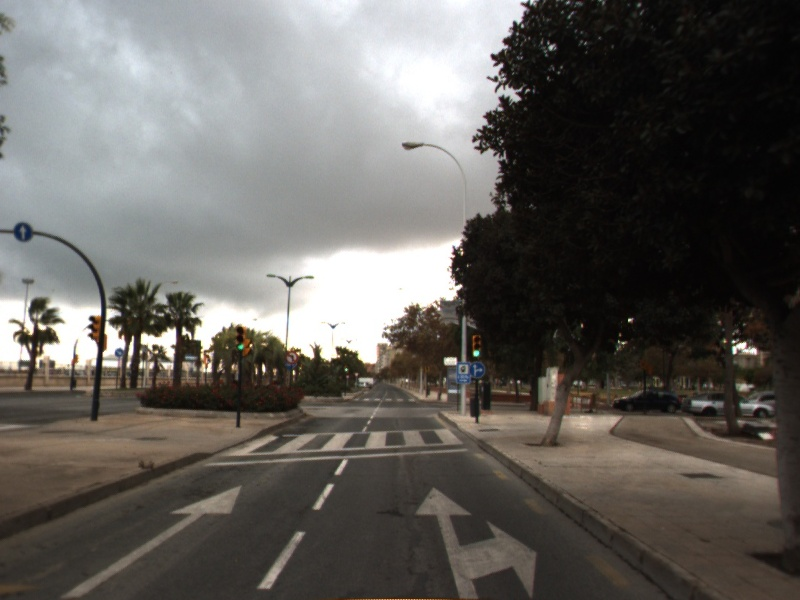STRAIGHT: (63, 482, 245, 599)
STRAIGHT_RIGHT: (413, 485, 540, 600)
